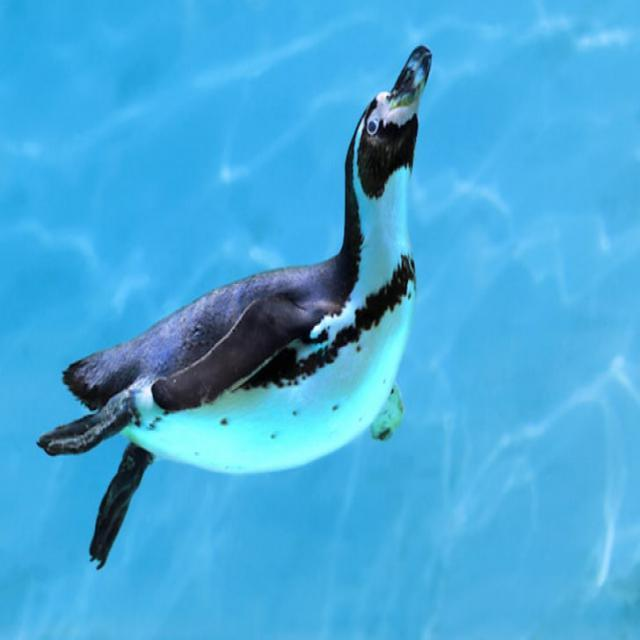penguin: (36, 44, 434, 571)
